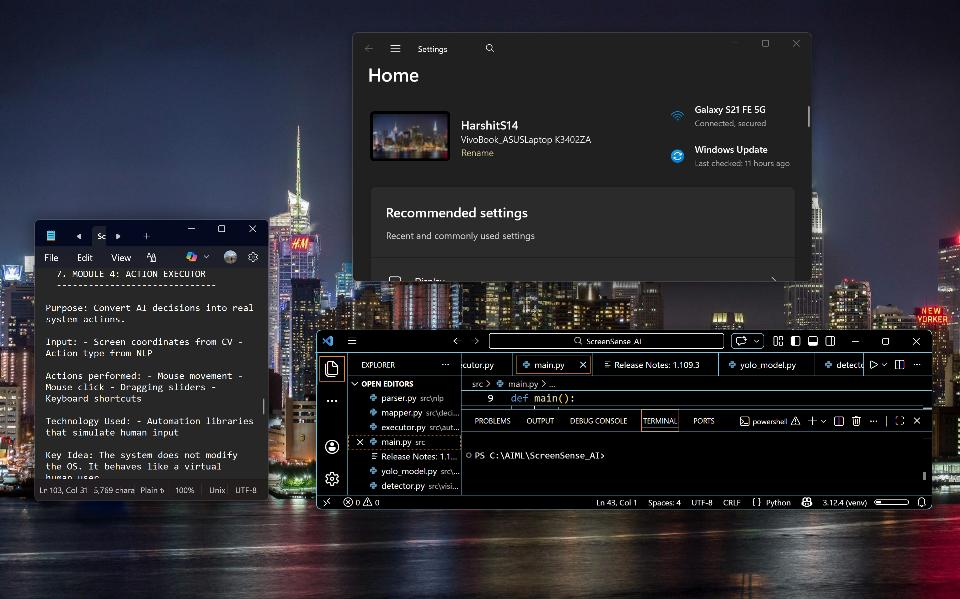close_button: (241, 220, 263, 245), (787, 34, 808, 53), (906, 333, 925, 354)
maximize_button: (210, 220, 234, 242), (875, 331, 898, 353), (760, 33, 776, 51)
minimize_button: (845, 331, 868, 353), (726, 34, 751, 54), (181, 221, 202, 242)
